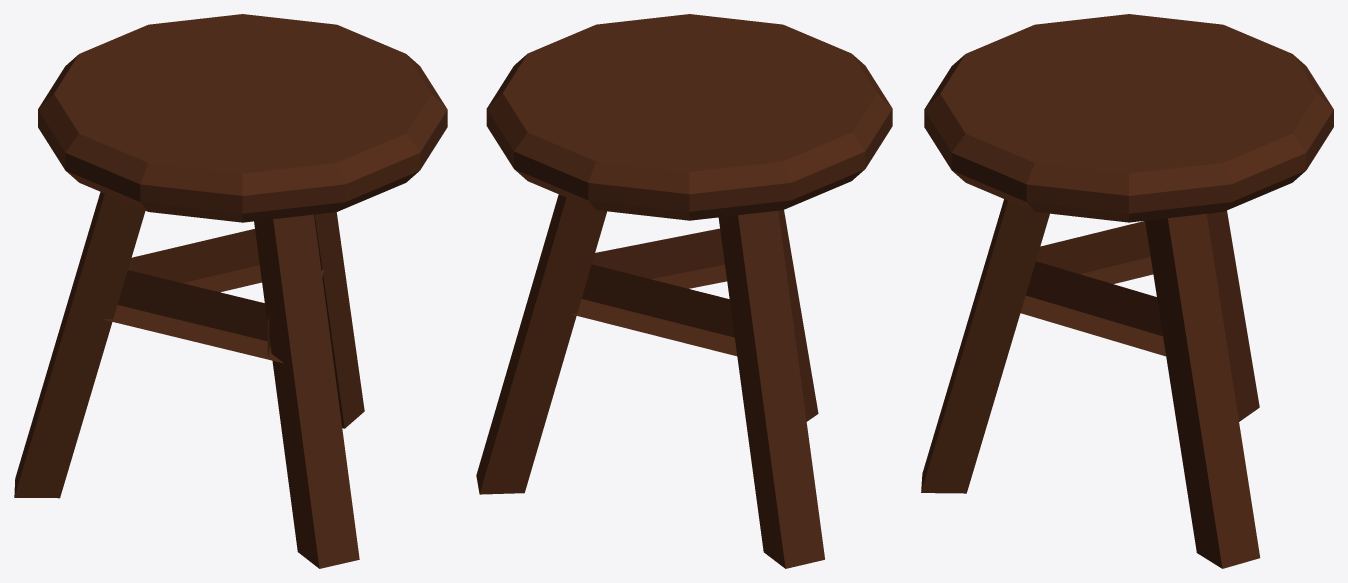
Rendered from 3er Hocker Var 2.fbx.
The picture shows the model from 3 angles, left to right: view 1: azimuth 30°, elevation 25°; view 2: azimuth 150°, elevation 25°; view 3: azimuth 270°, elevation 25°; orthographic projection.
Visible parts, largest first — view 1: 3er Hocker Var 2; view 2: 3er Hocker Var 2; view 3: 3er Hocker Var 2.
Boxes of the visible parts, x1,y1,x2,y2 form: 3er Hocker Var 2: (14,14,447,568); 3er Hocker Var 2: (476,14,892,568); 3er Hocker Var 2: (921,14,1333,568).
Size of the model in its own units: 61.41 by 64.07 by 61.
